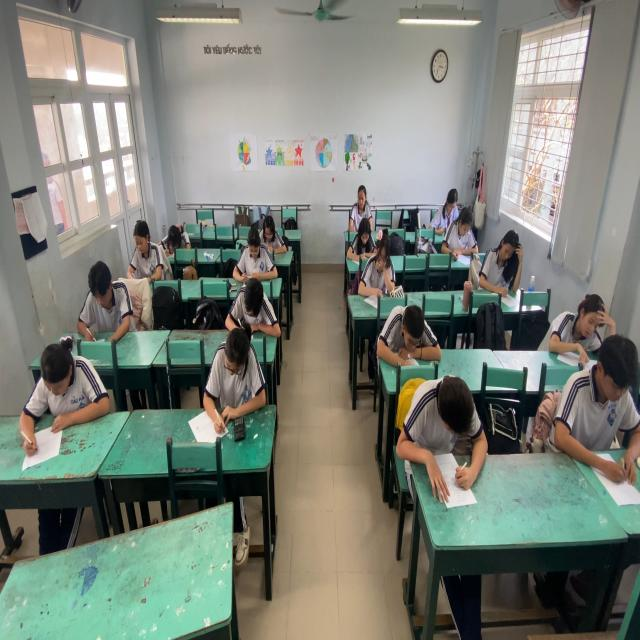not_cheating: (568, 325, 634, 461), (405, 368, 476, 494), (24, 332, 104, 423), (207, 329, 273, 429), (556, 282, 615, 364), (84, 272, 141, 354), (376, 298, 441, 366), (127, 218, 173, 296), (477, 232, 523, 310), (233, 268, 280, 334), (244, 234, 287, 295), (257, 207, 297, 266), (158, 202, 191, 272), (360, 231, 392, 289), (447, 207, 477, 261), (352, 184, 376, 225), (440, 186, 461, 223), (352, 217, 374, 249)
